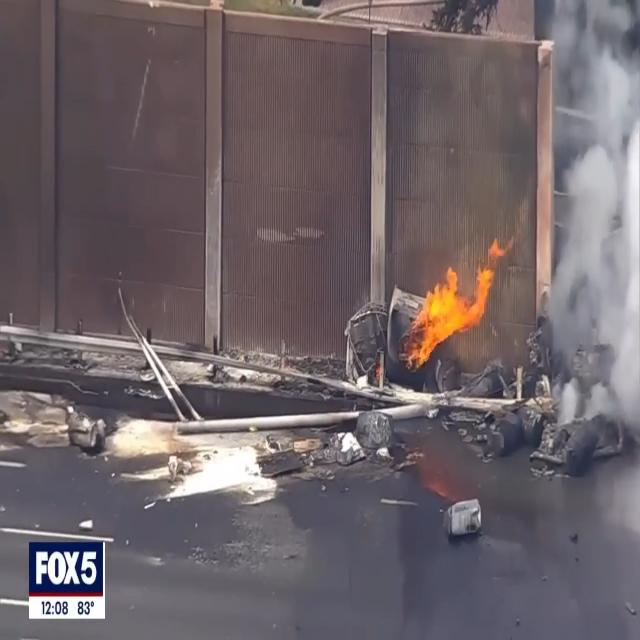fire: (410, 236, 509, 378)
